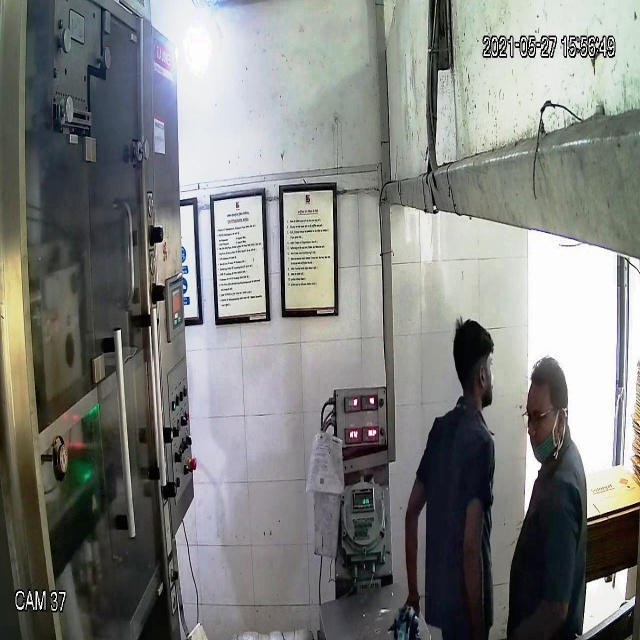Gafas: (522, 398, 561, 433)
